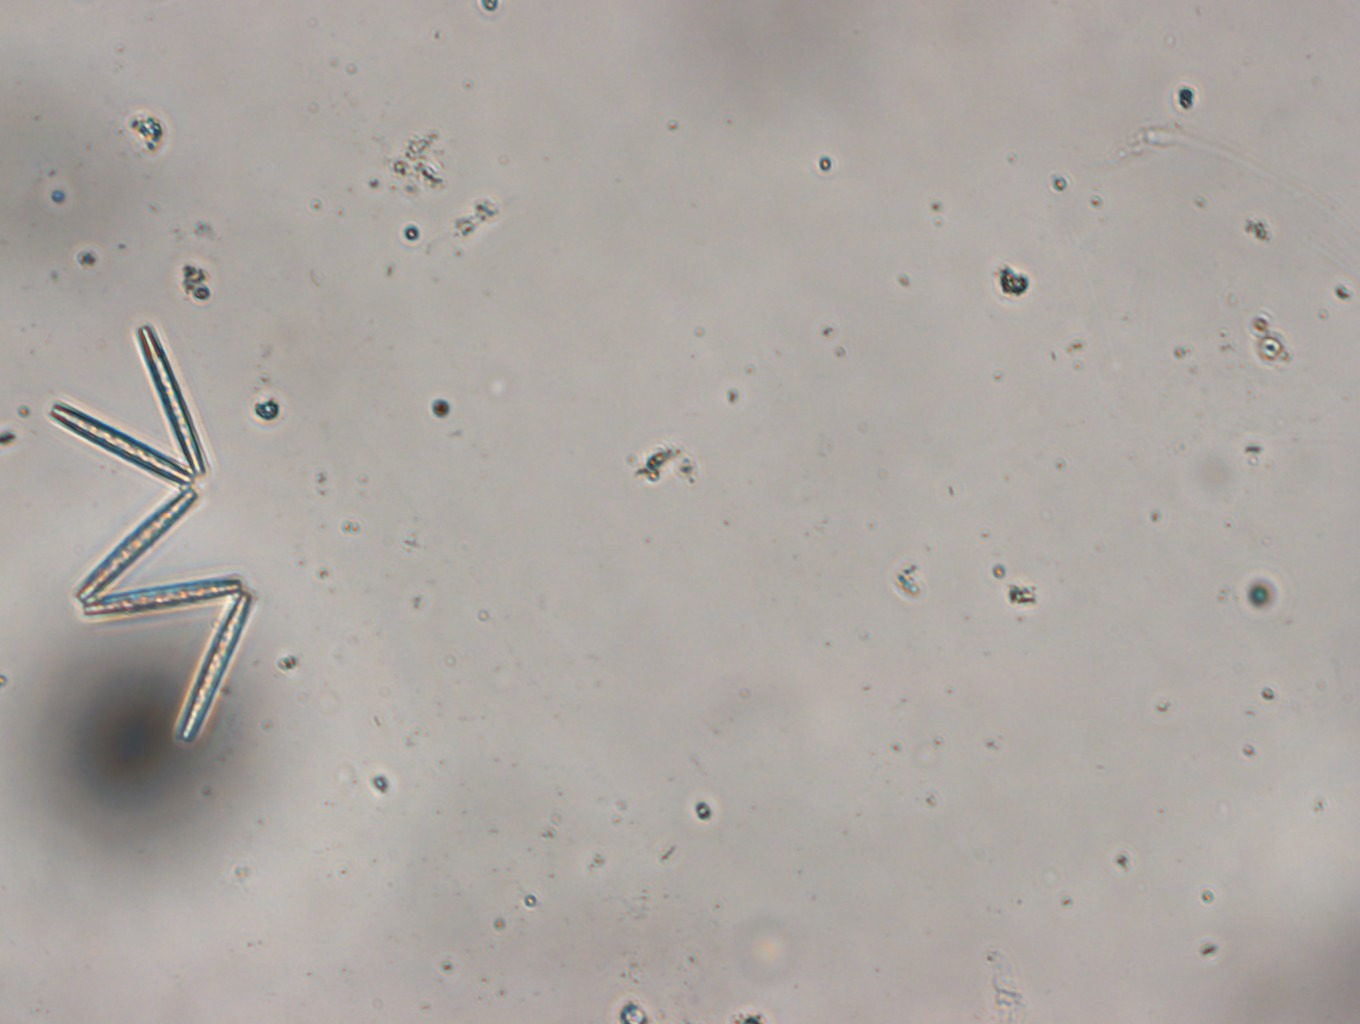thalassionema nitzschioides: (44, 312, 257, 746)
